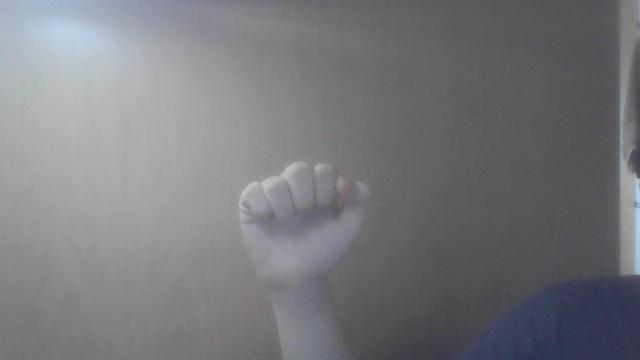forward: (238, 160, 370, 288)
